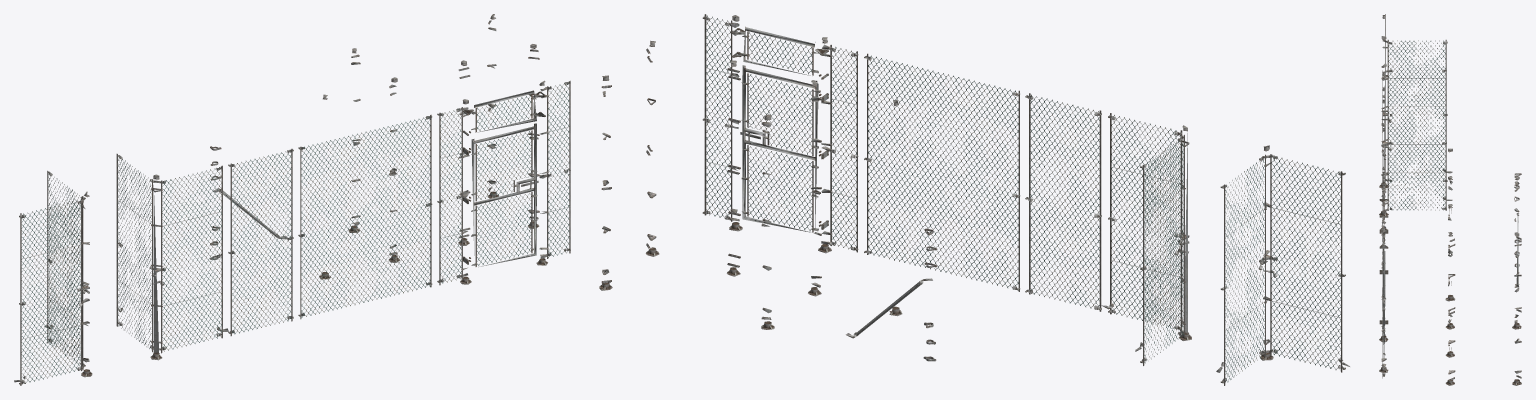
File: chainlink_fence.glb
3 renders of one model, left to right at view 1: azimuth 30°, elevation 25°; view 2: azimuth 150°, elevation 25°; view 3: azimuth 270°, elevation 25°, orthographic. The views are drawn at different scales.
Visible parts, largest first — view 1: modular_chainlink_fence_double, modular_chainlink_fence_corner_outer, modular_chainlink_fence_corner_inner, modular_chainlink_fence_door_frame, modular_chainlink_fence, modular_chainlink_fence_door_gate; view 2: modular_chainlink_fence_double, modular_chainlink_fence_corner_inner, modular_chainlink_fence_corner_outer, modular_chainlink_fence_door_frame, modular_chainlink_fence, modular_chainlink_fence_door_gate; view 3: modular_chainlink_fence_corner_outer, modular_chainlink_fence_corner_inner, modular_chainlink_fence_door_frame, modular_chainlink_fence_door_gate, modular_chainlink_fence_start_01_corner_02, modular_chainlink_fence_start_01_corner_01, modular_chainlink_fence_end_02, modular_chainlink_fence_end_01, modular_chainlink_fence_corner_support, modular_chainlink_post_middle.
Boxes of the visible parts, bbox=[...] form: modular_chainlink_fence_double: bbox=[298, 114, 432, 319]; modular_chainlink_fence_corner_outer: bbox=[116, 153, 228, 360]; modular_chainlink_fence_corner_inner: bbox=[14, 170, 92, 385]; modular_chainlink_fence_door_frame: bbox=[437, 80, 570, 285]; modular_chainlink_fence: bbox=[228, 148, 293, 336]; modular_chainlink_fence_door_gate: bbox=[471, 123, 537, 267]; modular_chainlink_fence_double: bbox=[864, 53, 1020, 291]; modular_chainlink_fence_corner_inner: bbox=[1216, 145, 1349, 385]; modular_chainlink_fence_corner_outer: bbox=[1101, 113, 1191, 365]; modular_chainlink_fence_door_frame: bbox=[702, 14, 858, 253]; modular_chainlink_fence: bbox=[1025, 93, 1101, 311]; modular_chainlink_fence_door_gate: bbox=[741, 65, 818, 232]; modular_chainlink_fence_corner_outer: bbox=[1379, 63, 1452, 235]; modular_chainlink_fence_corner_inner: bbox=[1379, 14, 1452, 188]; modular_chainlink_fence_door_frame: bbox=[1379, 183, 1388, 378]; modular_chainlink_fence_door_gate: bbox=[1382, 231, 1385, 357]; modular_chainlink_fence_start_01_corner_02: bbox=[1512, 232, 1521, 385]; modular_chainlink_fence_start_01_corner_01: bbox=[1445, 232, 1455, 385]; modular_chainlink_fence_end_02: bbox=[1512, 176, 1521, 329]; modular_chainlink_fence_end_01: bbox=[1445, 176, 1454, 329]; modular_chainlink_fence_corner_support: bbox=[1514, 208, 1519, 292]; modular_chainlink_post_middle: bbox=[1445, 204, 1454, 357].
Size of the model in its own units: 8.11 by 2.5 by 2.15.
2 materials, 2 textured.
